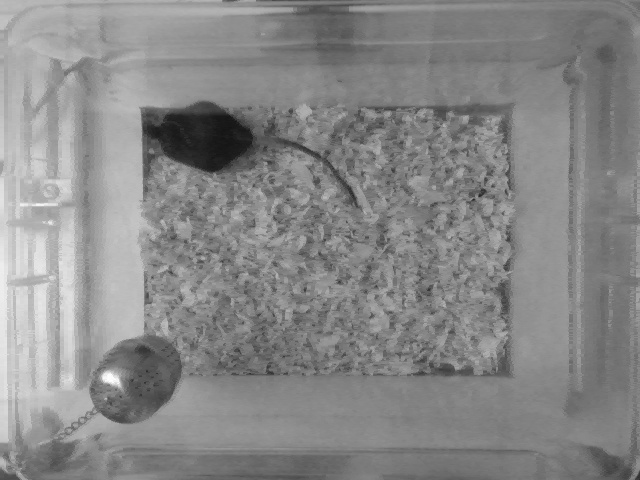mice: (139, 99, 360, 210)
